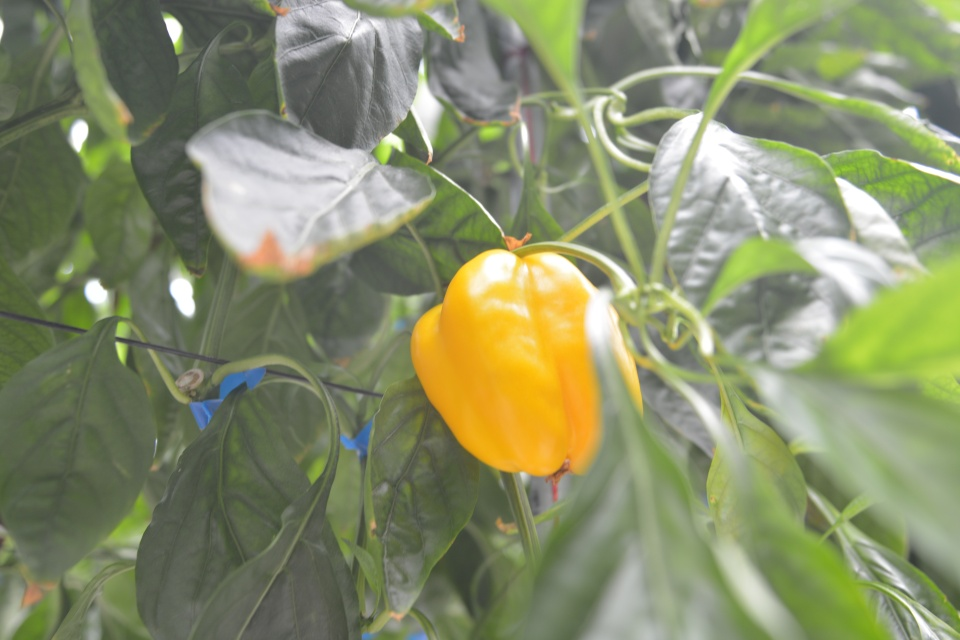fruit: (407, 244, 647, 482)
